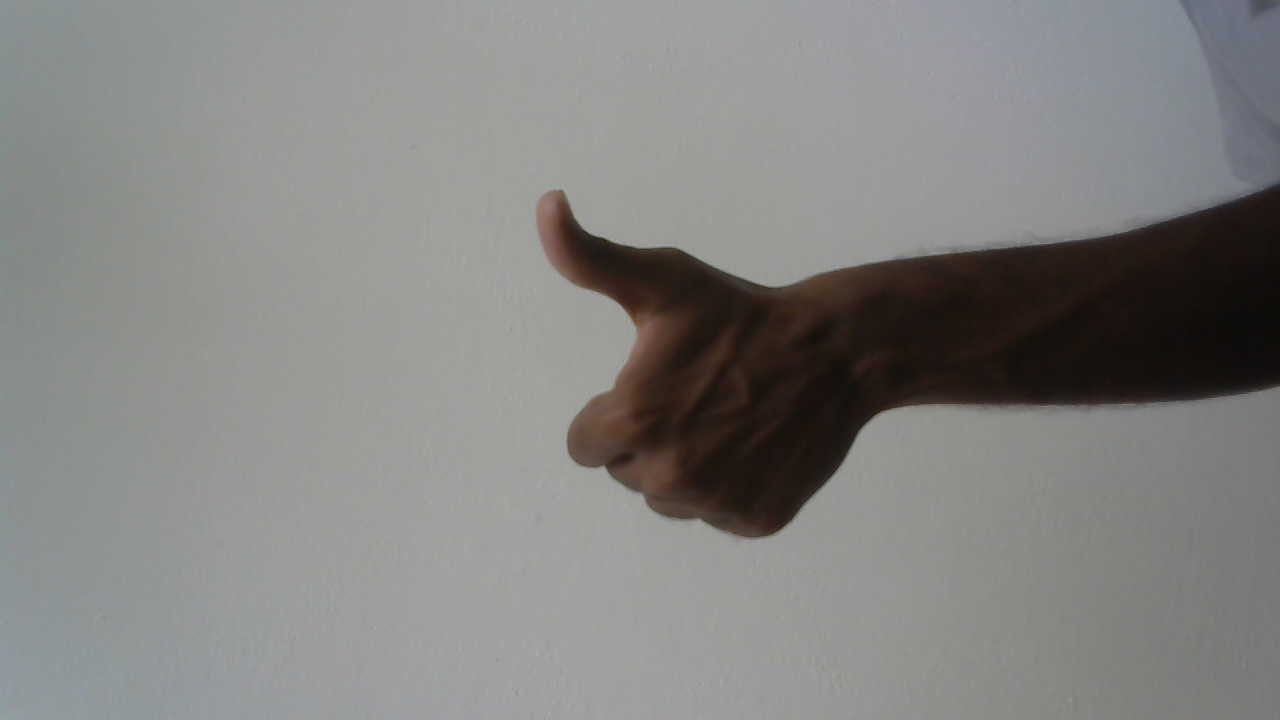thumbsup: (510, 170, 884, 551)
